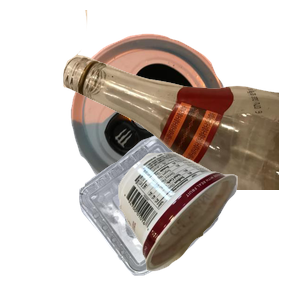glass: (60, 10, 300, 190)
metal: (68, 31, 288, 211)
plastic: (77, 133, 289, 300)
trash: (116, 149, 300, 300)
